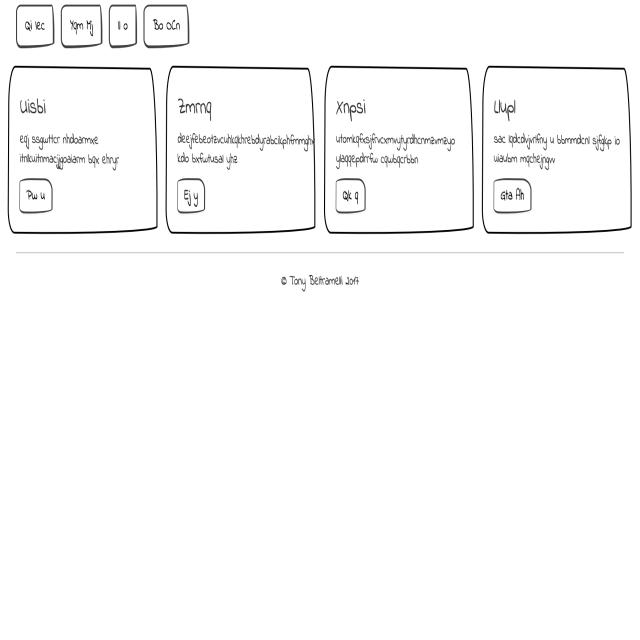Button: (12, 173, 56, 213), (489, 178, 534, 215), (175, 170, 208, 216), (332, 183, 364, 213)
Card: (3, 60, 147, 229), (489, 71, 632, 238), (322, 69, 468, 232), (164, 73, 311, 230)
Footer: (12, 258, 640, 639)
Heading 6: (330, 129, 461, 172), (11, 88, 63, 122), (328, 90, 378, 125), (172, 90, 224, 123), (489, 87, 522, 122)
Navigation Bar: (4, 2, 194, 54)
Paragraph: (490, 130, 622, 177), (170, 129, 316, 168), (12, 132, 124, 176)
